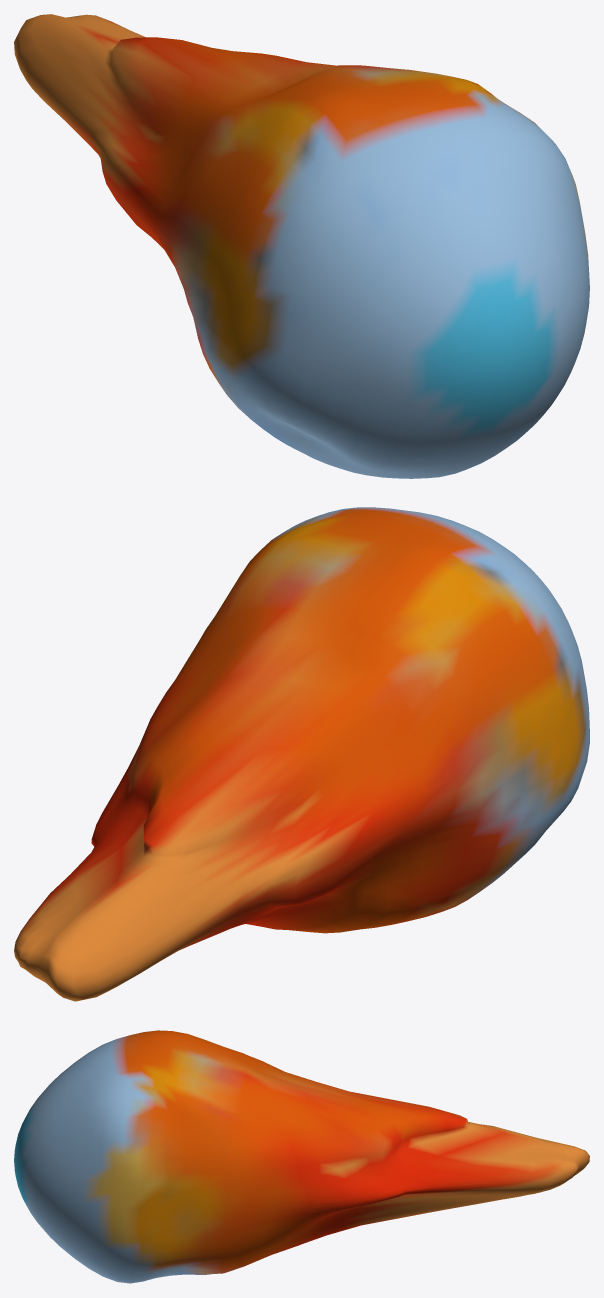
File: fireball_stretched.fbx
The picture shows the model from 3 angles, top to bottom: view 1: azimuth 30°, elevation 25°; view 2: azimuth 150°, elevation 25°; view 3: azimuth 270°, elevation 25°; orthographic projection. The views are drawn at different scales.
Parts seen in each view (by area): view 1: fireball_stretched; view 2: fireball_stretched; view 3: fireball_stretched.
Part boxes in pixels (left/top/right/bottom): fireball_stretched: left=14, top=14, right=589, bottom=478; fireball_stretched: left=14, top=507, right=589, bottom=1001; fireball_stretched: left=14, top=1030, right=589, bottom=1283.
Size of the model in its own units: 1.55 by 1.62 by 3.74.
